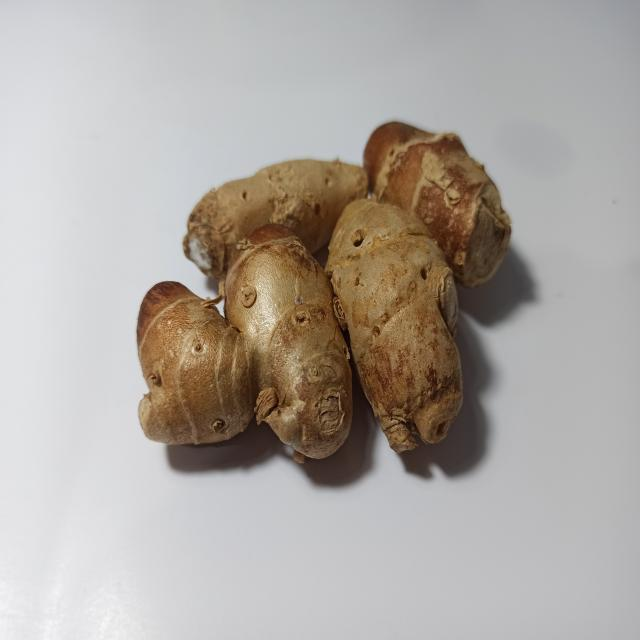ginger: (142, 121, 504, 466)
